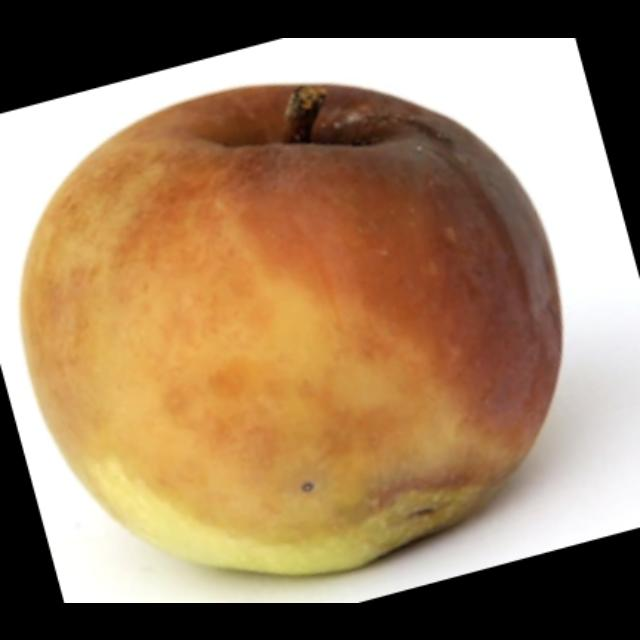Apel Tidak Segar: (14, 54, 606, 594)
